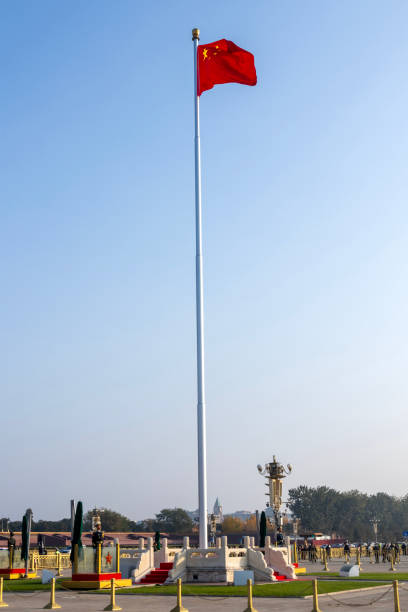light_pole: (192, 102, 213, 550)
